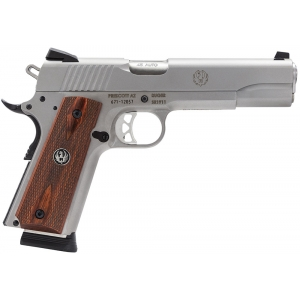weapon: (5, 42, 300, 257)
